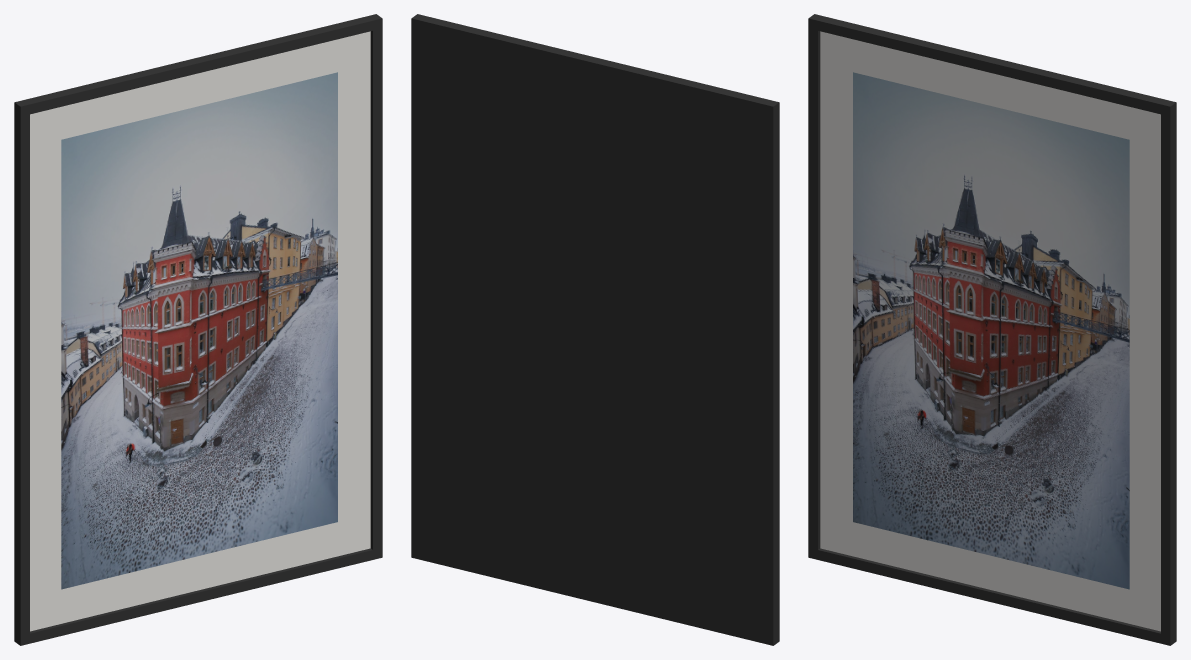
Rendered from sno-pa-soder-90.gltf.
The picture shows the model from 3 angles, left to right: view 1: azimuth 30°, elevation 25°; view 2: azimuth 150°, elevation 25°; view 3: azimuth 330°, elevation 25°; orthographic projection.
Parts seen in each view (by area): view 1: tavla; view 2: tavla; view 3: tavla.
Part boxes in pixels (x1,y1,x2,y2): tavla: (14,14,382,645); tavla: (411,14,779,645); tavla: (808,14,1176,645).
Size of the model in its own units: 0.758 by 1.08 by 0.022.
Materials: 3 (1 with a texture image).
